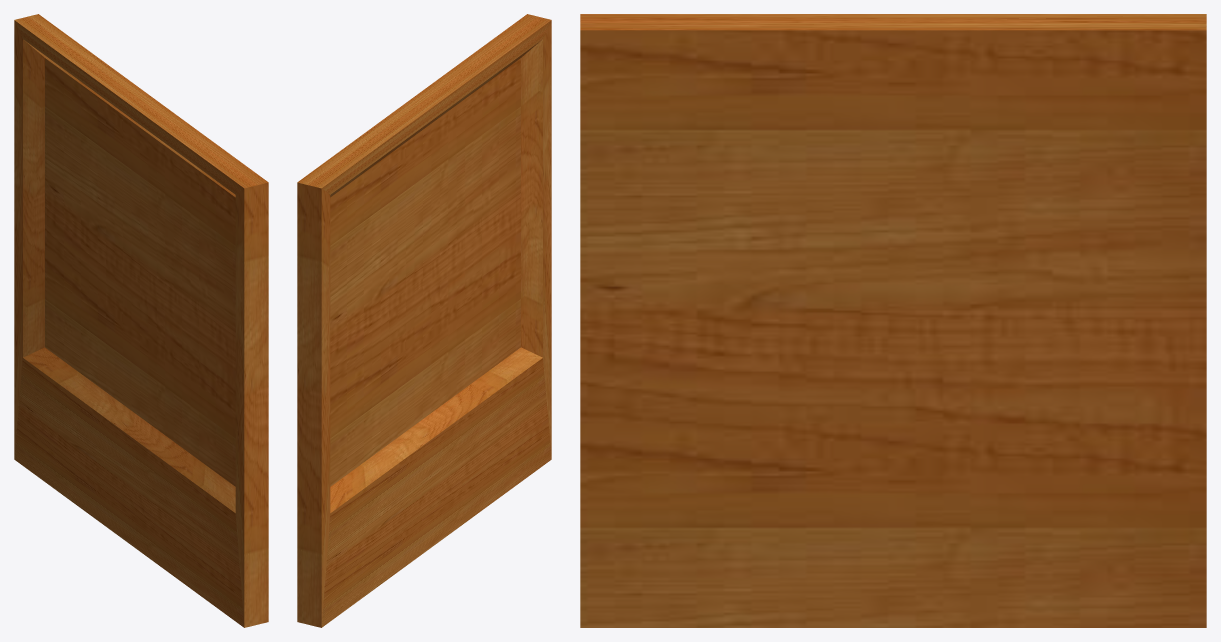
The model's file is switchboard.fbx.
3 renders of one model, left to right at view 1: azimuth 30°, elevation 25°; view 2: azimuth 150°, elevation 25°; view 3: azimuth 270°, elevation 25°, orthographic. The views are drawn at different scales.
Parts seen in each view (by area): view 1: Cube.001; view 2: Cube.001; view 3: Cube.001.
Boxes of the visible parts, bbox=[...] form: Cube.001: bbox=[14, 14, 268, 627]; Cube.001: bbox=[297, 14, 551, 627]; Cube.001: bbox=[580, 14, 1206, 627].
Bounding box in the file's own units: 33.79 × 581 × 552.
Materials: 1 (1 with a texture image).
